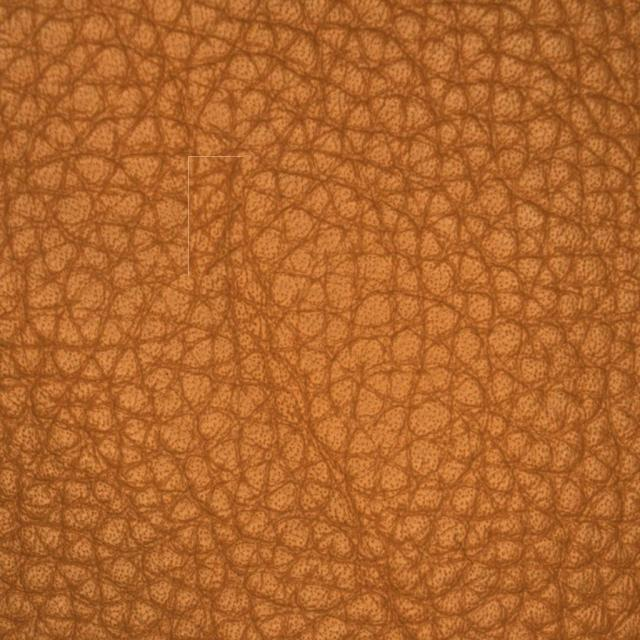Healed Injury: (148, 104, 321, 325)
